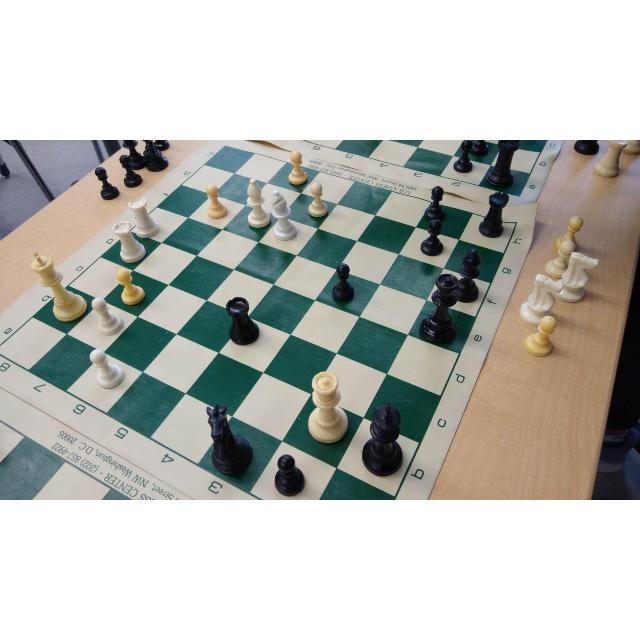black-bishop: (452, 245, 482, 305)
black-king: (358, 398, 405, 478)
black-knight: (199, 402, 257, 479)
black-pawn: (273, 451, 307, 499), (329, 261, 355, 305), (418, 217, 445, 257), (423, 184, 446, 224), (452, 140, 474, 174), (470, 140, 490, 157)
black-queen: (414, 272, 463, 348)
black-rook: (221, 294, 263, 348), (482, 140, 521, 190), (477, 190, 510, 240)
white-bishop: (267, 187, 300, 243), (243, 177, 273, 232)
white-king: (27, 248, 91, 324)
white-pawn: (85, 346, 126, 391), (86, 295, 128, 337), (110, 265, 148, 309), (203, 180, 231, 221), (286, 147, 309, 187), (306, 181, 330, 219)
white-queen: (303, 368, 352, 446)
white-rook: (109, 218, 149, 265), (124, 196, 163, 240)
